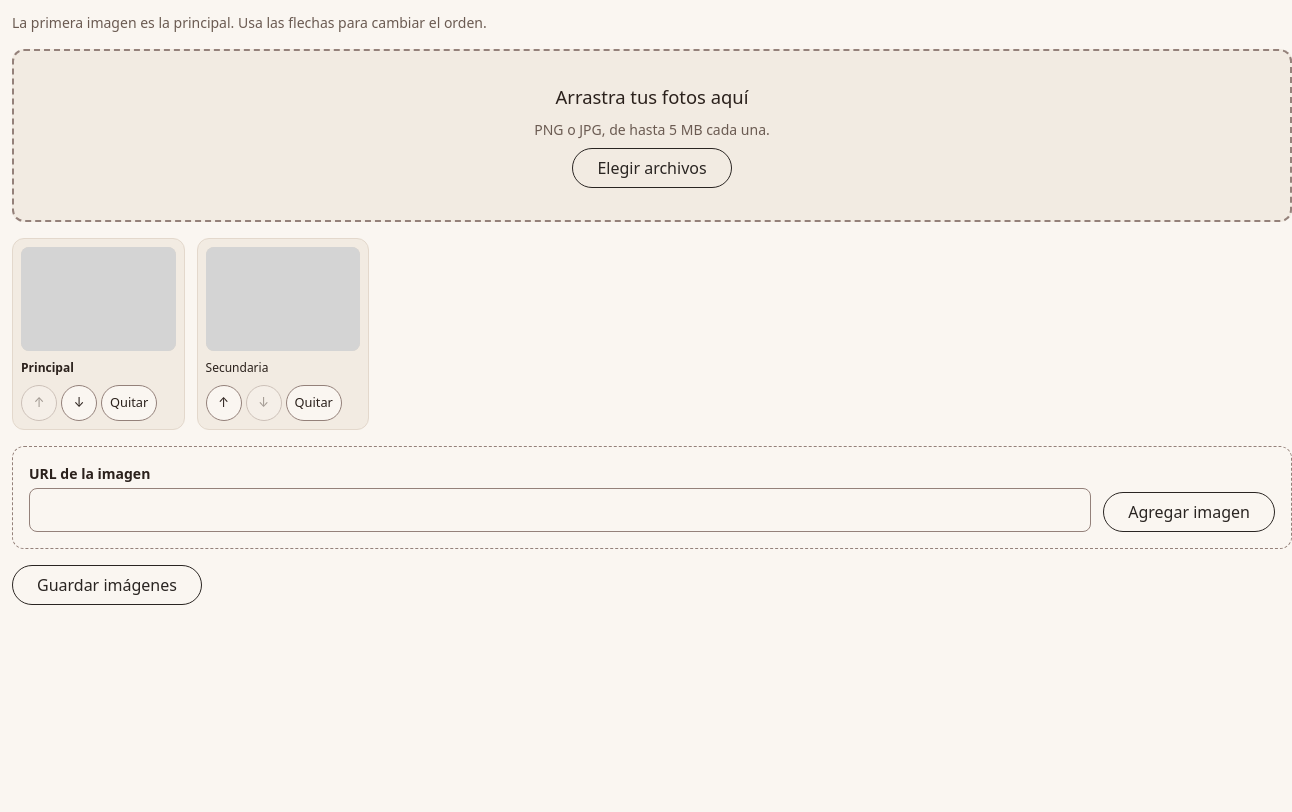
Scenario: ImagenesPublicacion › guarda la lista en el orden elegido y entrega la publicación actualizada
Click the button named "Bajar la imagen 1" at (79, 403), box [61,385,97,421]
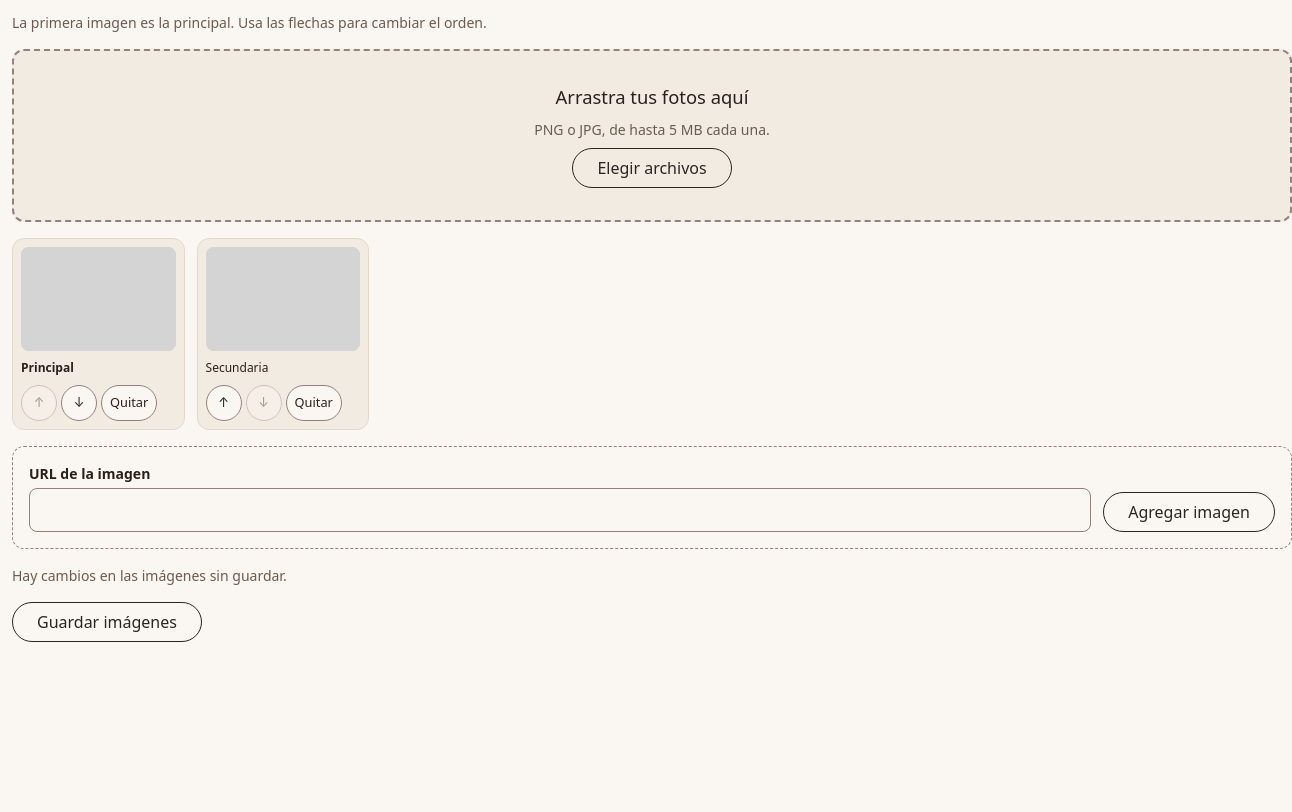
Click the button "Guardar imágenes" at (107, 622), box [12,602,202,642]
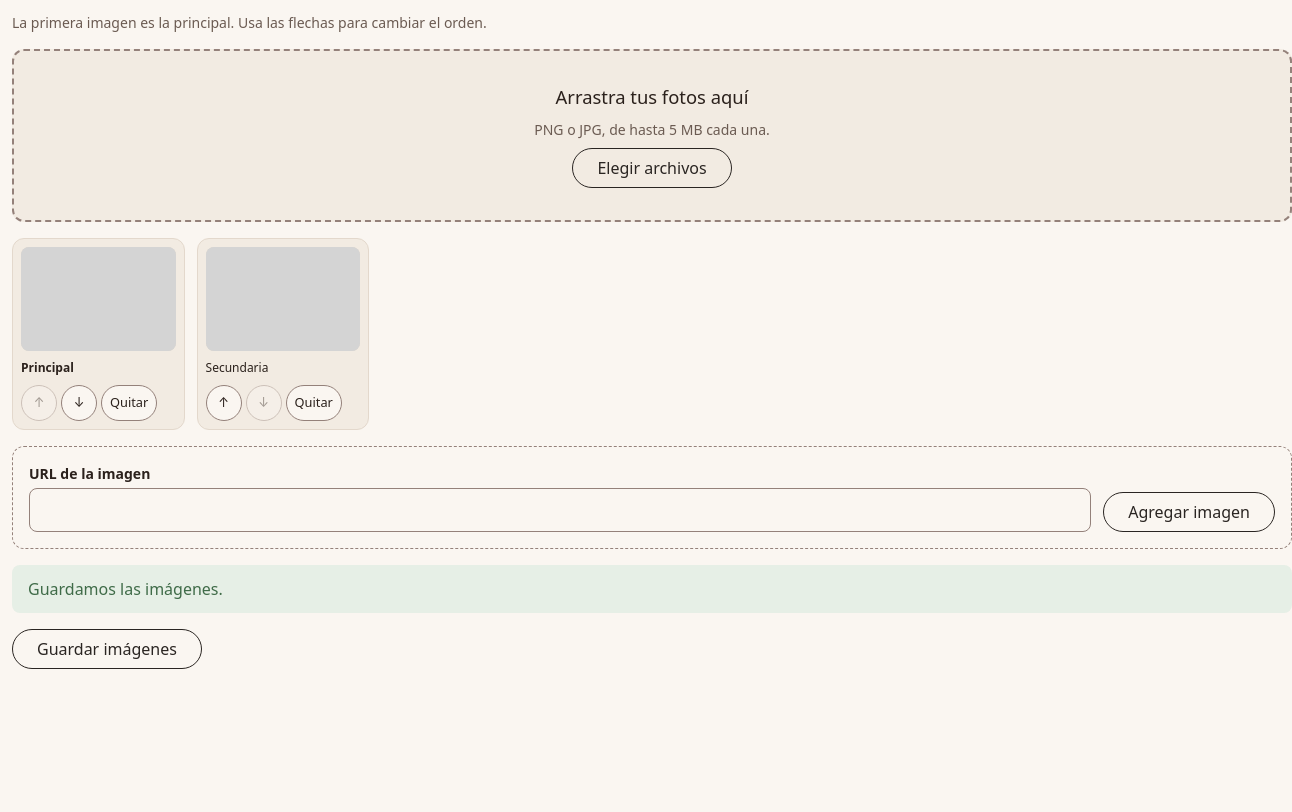
Expected: the message reads "Guardamos las imágenes.", [28,578,223,600]
